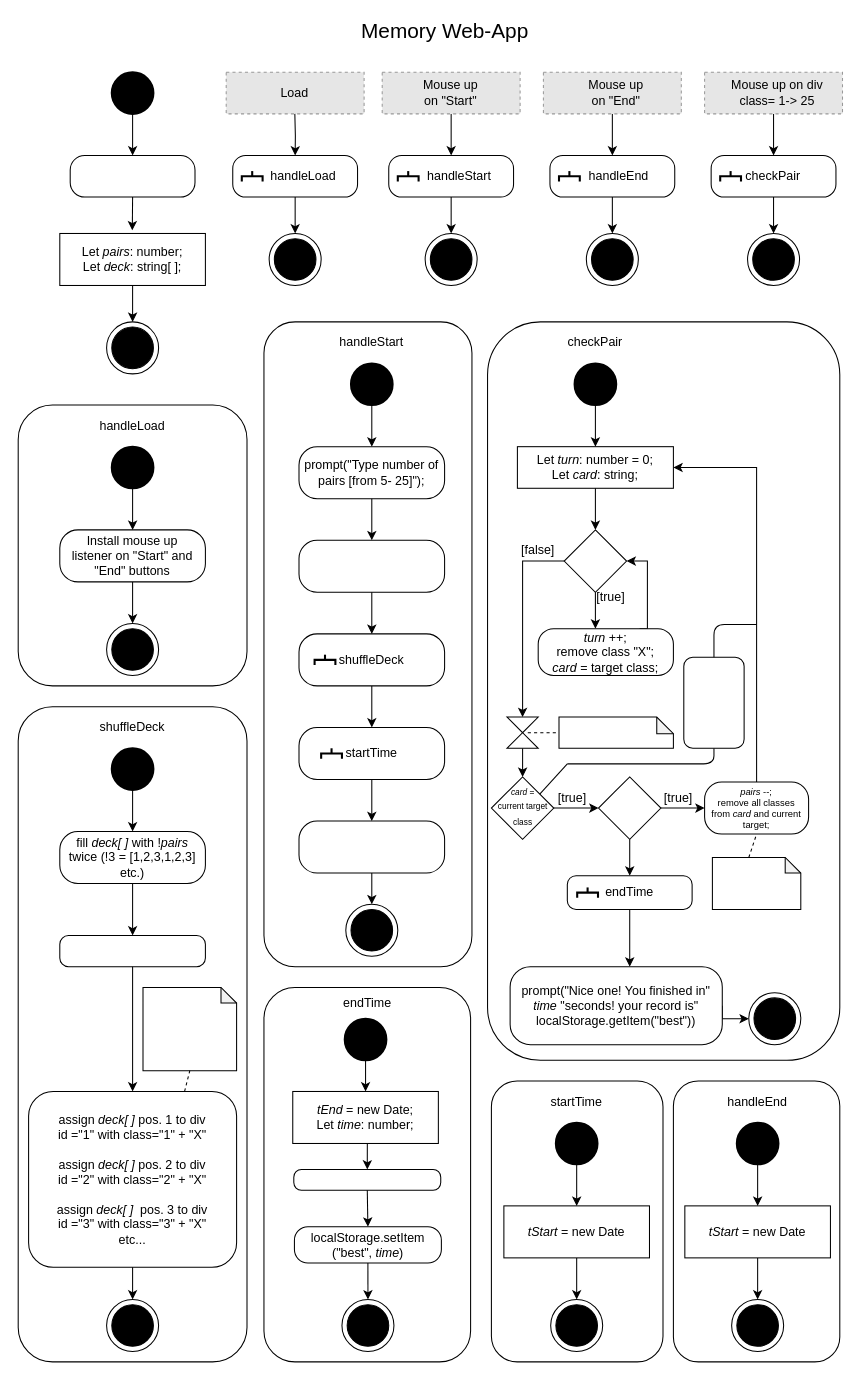
The diagram is 861 pixels wide and 1380 high, and some of its shapes have lost their labels. Grey dashed boxes stand in for pictures. The centre of each missing label's shape, as x and y in pixels:
- css id 1,2,3... etc. remains: pixel 756 882
add class "X" to card and current target: pixel 713 702
After 2 seconds: pixel 615 732
assign answer to global variable pairs: pixel 371 565
css class 1-25 - display: inline - png as background img: pixel 189 1028
Install Load Listener on Window: pixel 132 175
install mouse up listener on div class= 1 -> 25: pixel 371 846
pairs > 0: pixel 629 807
shuffle deck[ ]: pixel 132 950
time = tEnd - tStart;: pixel 367 1179
turn < 2: pixel 595 560
